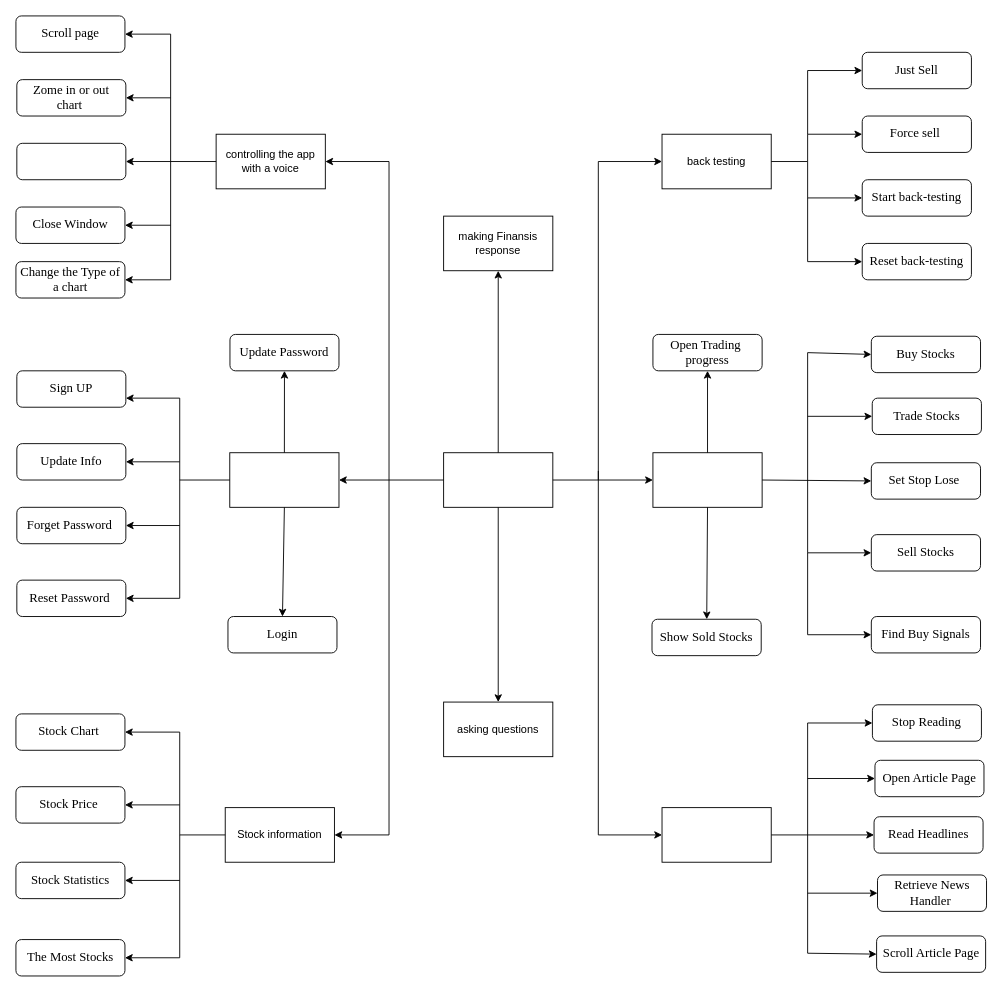
Image size: 1003x992. Some labels were removed from this diagram. Here are the shapes that lost their labels. From the top down, the centre of each, then its label:
At [71,161]: "Navigate between pages".
At [284,479]: "User management".
At [498,479]: "Finansis".
At [707,479]: "automating trading".
At [716,834]: "Stock Market News".
